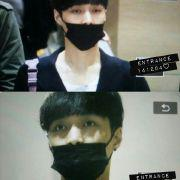WRONG: (50, 116, 110, 176), (62, 3, 107, 50)
